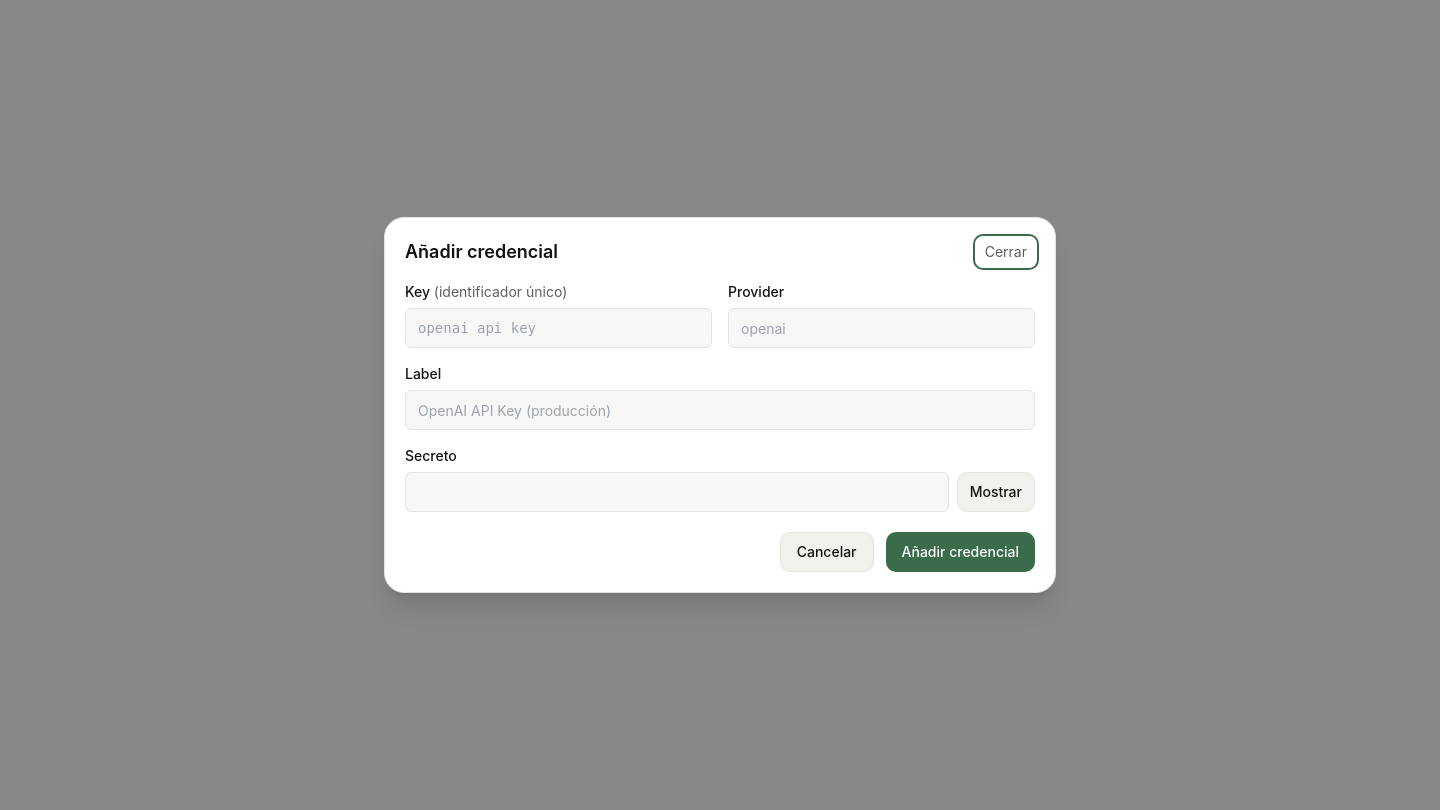
Test: CreateCredentialDialog › key con espacios muestra error de validación
Step 1. Type "key con espacios" into the field labelled "Key (identificador único)" → (558, 328), box [405, 308, 712, 348]
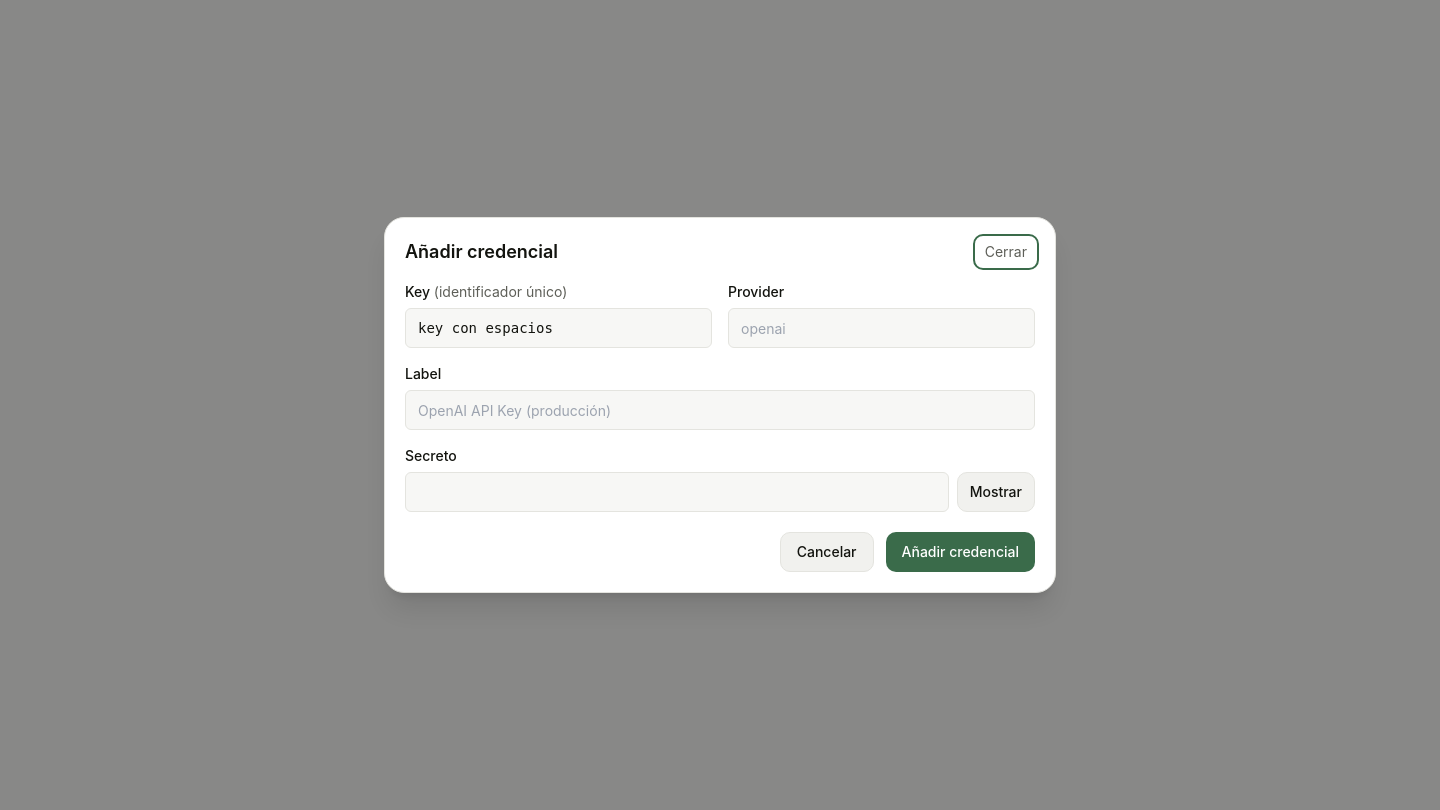
Step 2. Type "test" into the field labelled "Provider" → (882, 328), box [728, 308, 1035, 348]
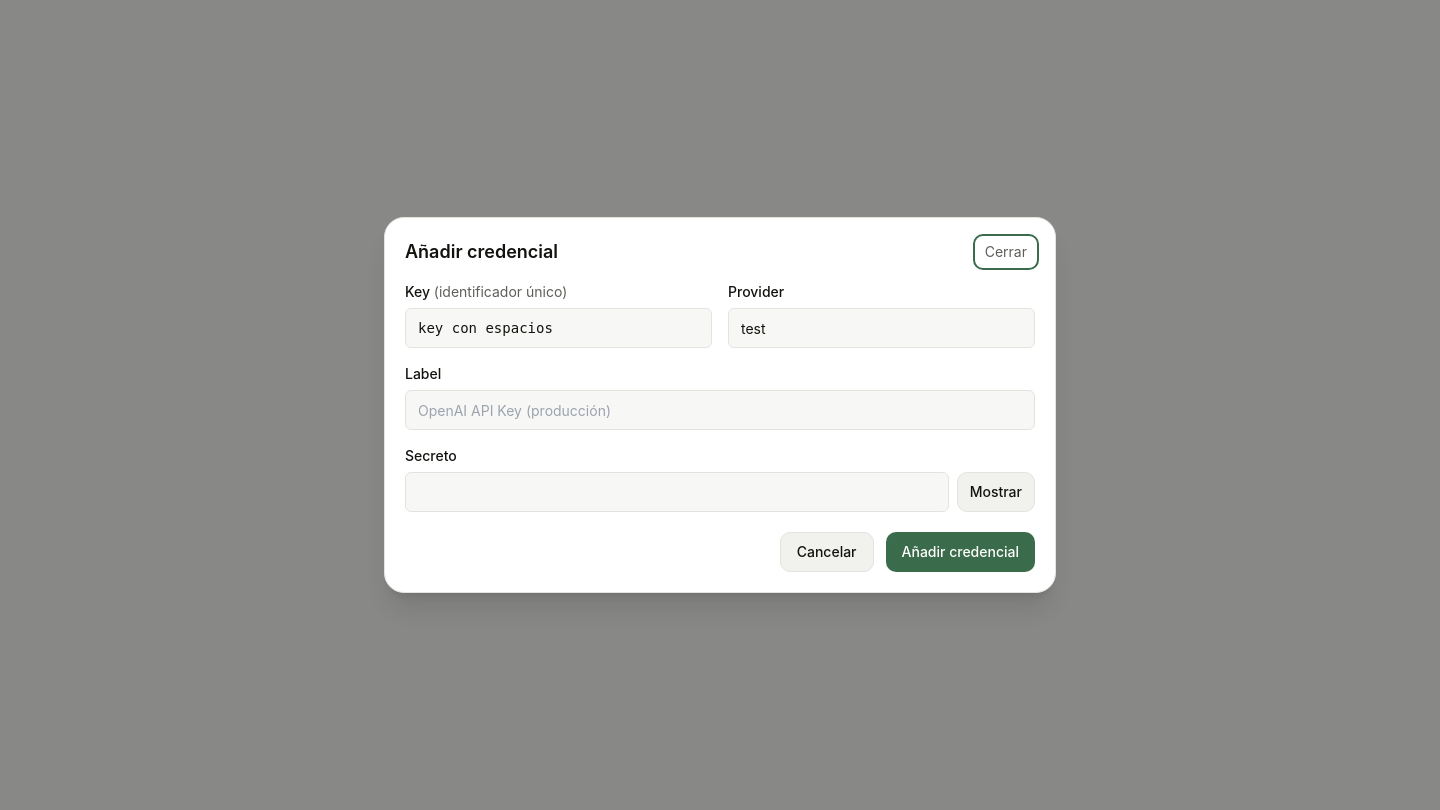
Step 3. Type "Test" into the field labelled "Label" → (720, 410), box [405, 390, 1035, 430]
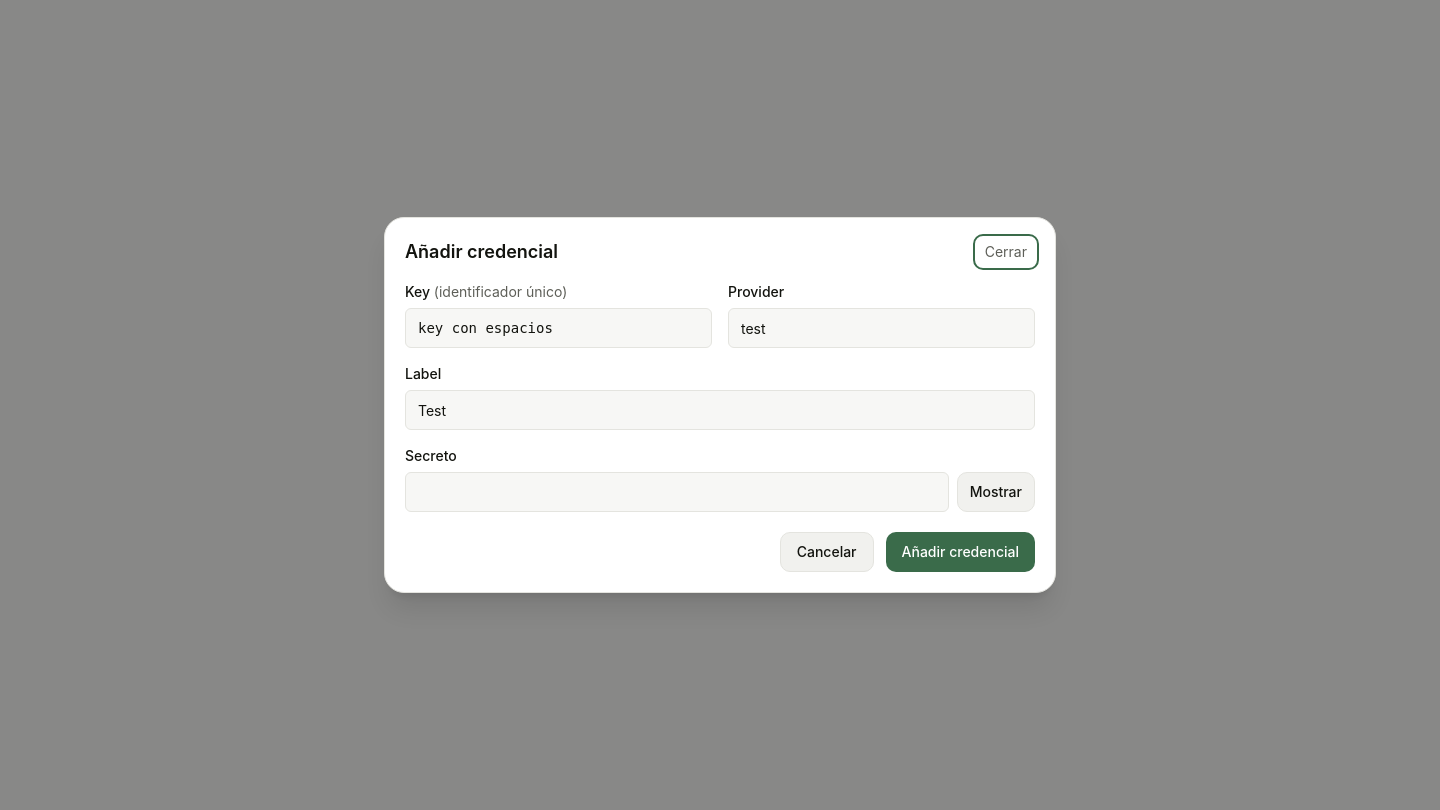
Step 4. Type "secret" into the password field labelled "Secreto" → (677, 492), box [405, 472, 949, 512]
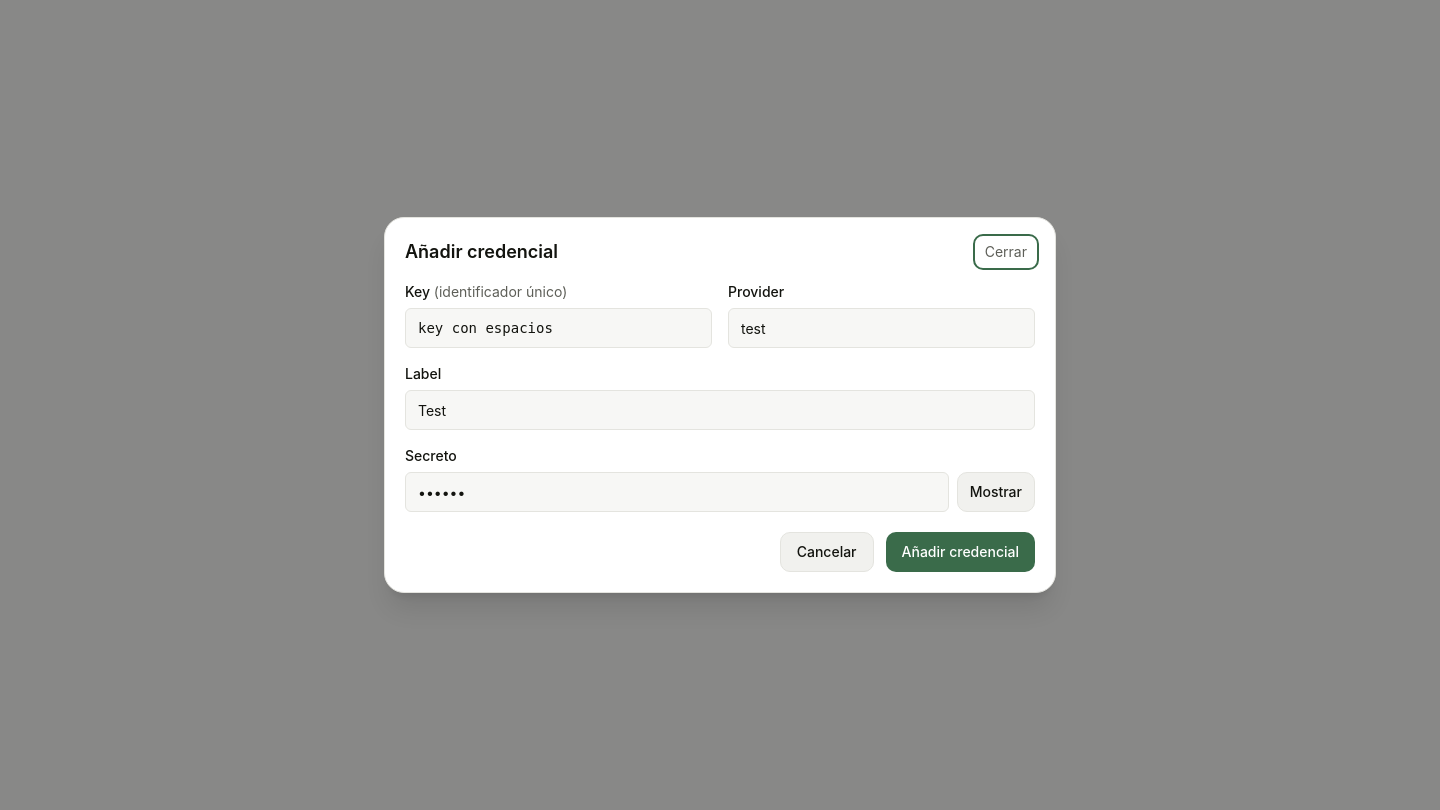
Step 5. Submit the form named "Añadir credencial", box [405, 282, 1035, 572]
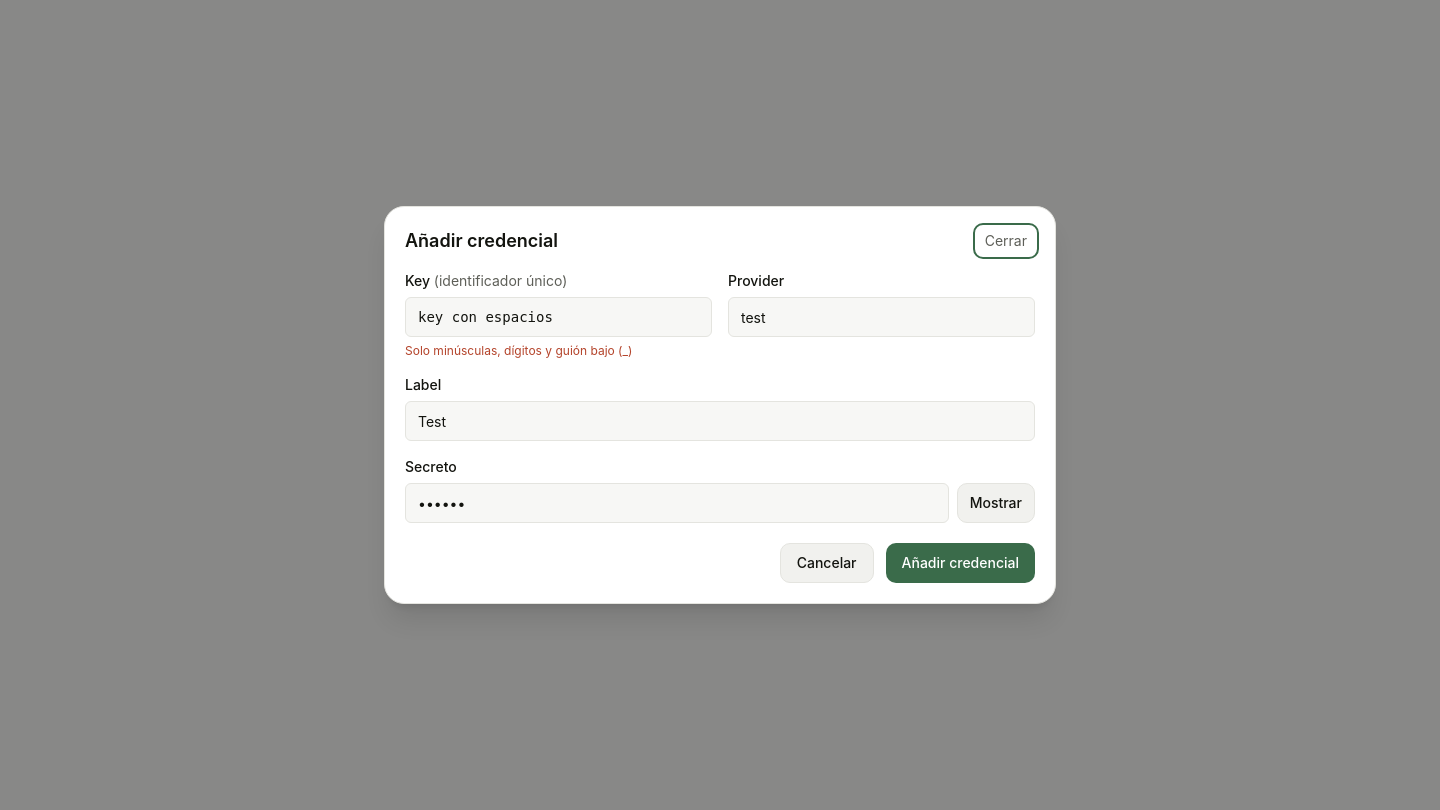
Result: the text "Solo minúsculas, dígitos y guión bajo (_)" is shown at [405, 343, 632, 358]
